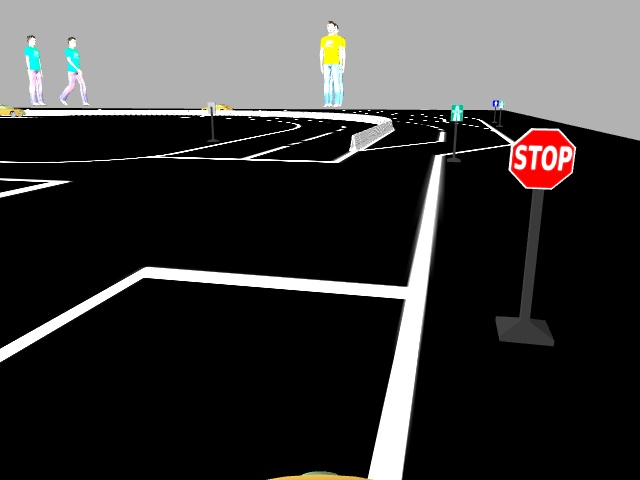Stop: (499, 124, 578, 190)
